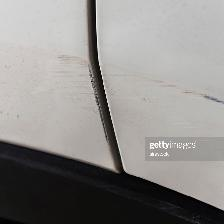door_scratch: (30, 27, 224, 138)
